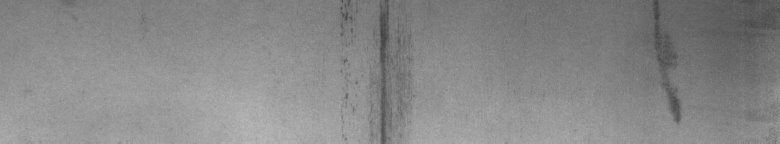ka: (340, 4, 403, 136)
